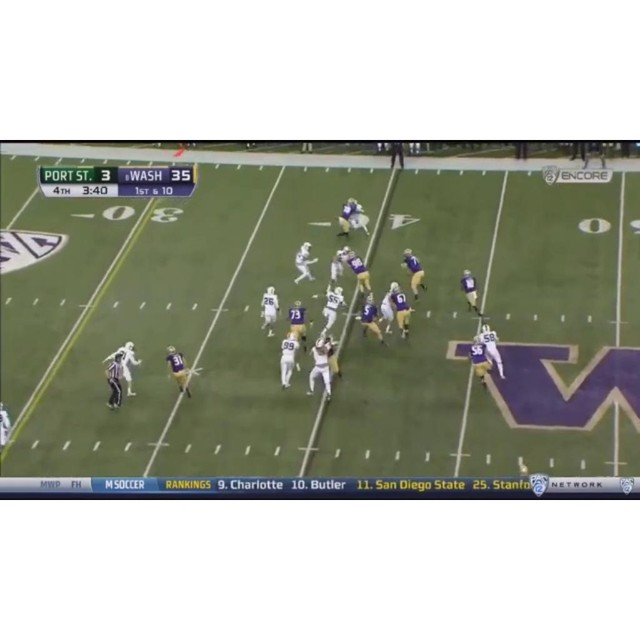american-football-player: (353, 294, 387, 347), (307, 339, 334, 401), (479, 323, 507, 380), (388, 284, 414, 342), (164, 346, 193, 398), (116, 340, 142, 397), (320, 286, 348, 338), (401, 248, 427, 303), (279, 330, 302, 391), (460, 268, 486, 318), (347, 250, 373, 299), (468, 336, 492, 389), (326, 246, 352, 291), (287, 300, 311, 348), (260, 285, 280, 338), (293, 242, 318, 284), (346, 199, 371, 237), (335, 199, 359, 238)
